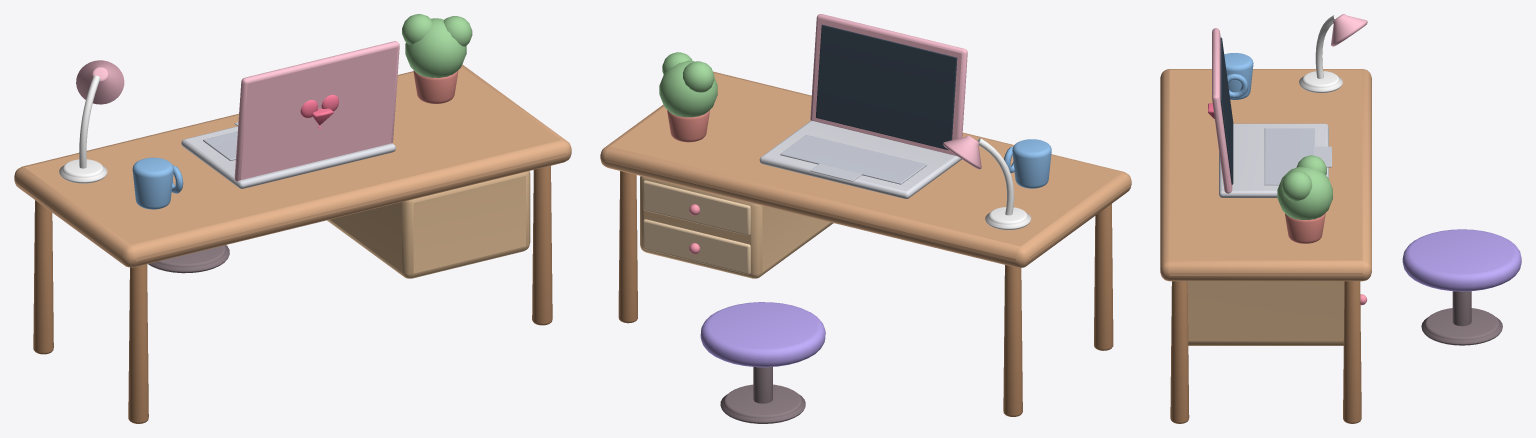
Rendered from desk.glb.
The picture shows the model from 3 angles, left to right: view 1: azimuth 30°, elevation 25°; view 2: azimuth 150°, elevation 25°; view 3: azimuth 270°, elevation 25°; orthographic projection. The views are drawn at different scales.
Visible parts, largest first — view 1: top, cffc4d6, drawers, cc4926a, c9fd49a, laptop, c8fc1f0, cffffff, c8a7a80, pot, cff7b9c, keys; view 2: top, screen, cc4926a, seat, cf7d9b5, drawers, laptop, cffc4d6, keys, c8a7a80, c9fd49a, c8fc1f0 (+2 smaller); view 3: top, drawers, seat, cc4926a, laptop, c8a7a80, c9fd49a, keys, cffc4d6, cffffff, c8fc1f0, screen (+1 smaller).
Part boxes in pixels (x1,y1,x2,y2): top: [14, 64, 571, 267]; cffc4d6: [76, 41, 399, 181]; drawers: [327, 171, 530, 278]; cc4926a: [33, 165, 552, 423]; c9fd49a: [402, 14, 472, 77]; laptop: [181, 126, 395, 188]; c8fc1f0: [132, 157, 183, 209]; cffffff: [59, 75, 107, 183]; c8a7a80: [148, 245, 229, 273]; pot: [413, 70, 458, 103]; cff7b9c: [300, 94, 338, 128]; keys: [203, 131, 237, 160]; top: [600, 71, 1131, 267]; screen: [816, 24, 957, 150]; cc4926a: [618, 171, 1113, 416]; seat: [700, 302, 825, 367]; cf7d9b5: [643, 180, 750, 274]; drawers: [640, 176, 833, 278]; laptop: [759, 120, 961, 198]; cffc4d6: [810, 14, 981, 169]; keys: [780, 135, 926, 184]; c8a7a80: [720, 367, 805, 423]; c9fd49a: [659, 52, 717, 117]; c8fc1f0: [1004, 139, 1051, 188]; top: [1160, 69, 1371, 281]; drawers: [1187, 281, 1344, 345]; seat: [1402, 229, 1521, 291]; cc4926a: [1170, 281, 1361, 423]; laptop: [1219, 123, 1328, 197]; c8a7a80: [1421, 291, 1502, 345]; c9fd49a: [1277, 155, 1332, 219]; keys: [1264, 128, 1314, 185]; cffc4d6: [1212, 14, 1367, 193]; cffffff: [1299, 14, 1342, 92]; c8fc1f0: [1224, 53, 1253, 99]; screen: [1220, 37, 1233, 184].
Size of the model in its own units: 3 by 1.9 by 2.31.
